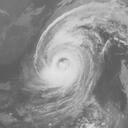cyclone: (34, 22, 106, 90)
